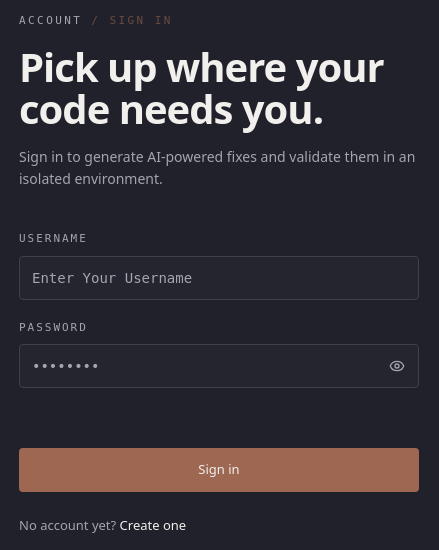
Test: LoginPage › surfaces unexpected errors without claiming success
Step 1. Type "alice" into the field labelled "Username" → (219, 278), box [19,256,419,300]
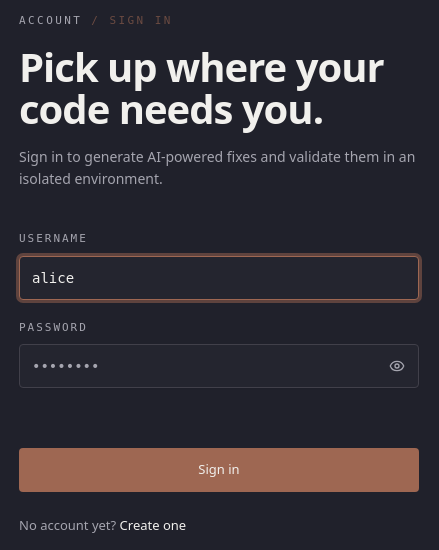
Step 2. Type "pw-1234" into the password field labelled "Password" → (219, 366), box [19,344,419,388]
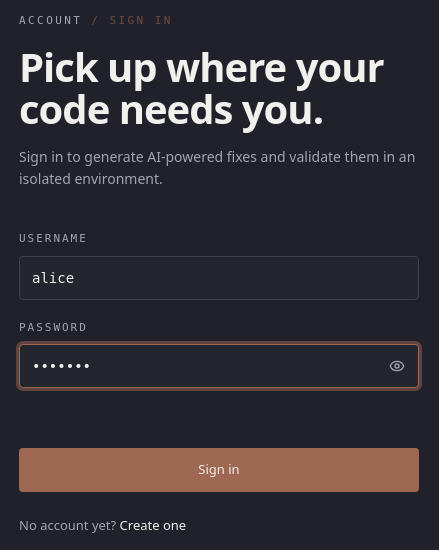
Step 3. Click the button "Sign in" → (219, 470), box [19,448,419,492]
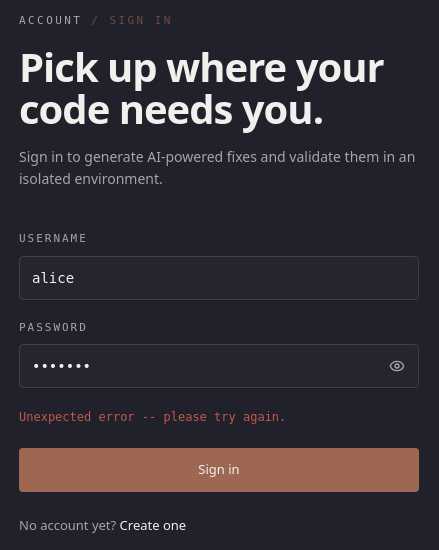
Result: the text "Unexpected error -- please try again." is shown at [19,410,286,424]
